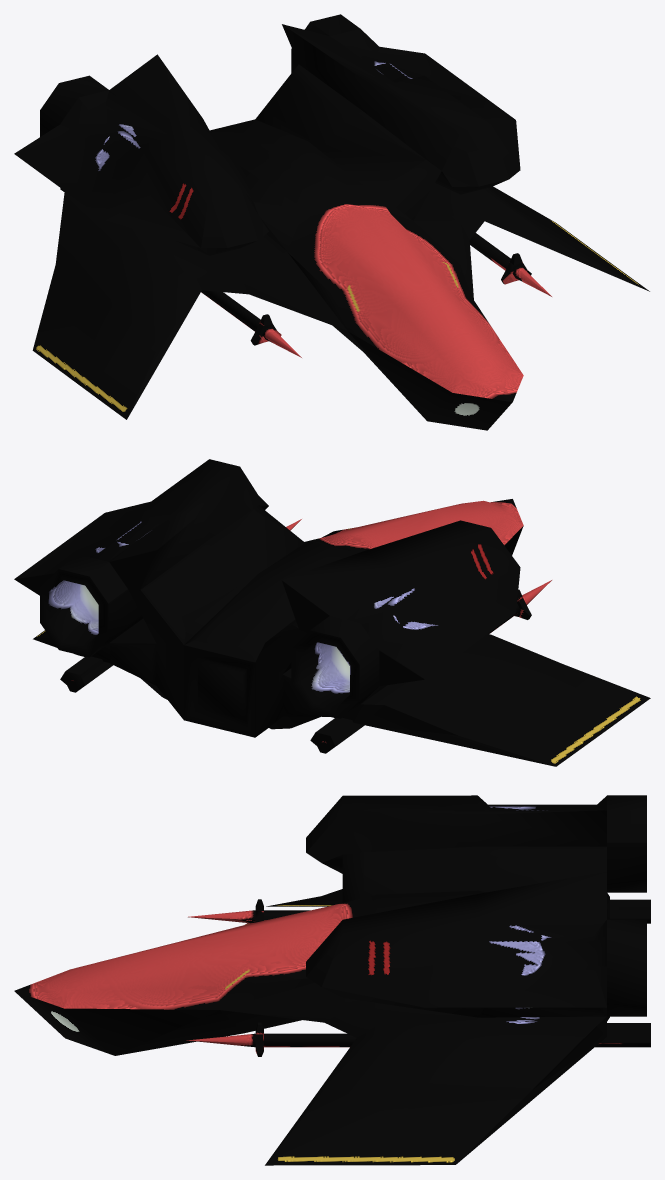
File: beta_ship.fbx
3 renders of one model, top to bottom at view 1: azimuth 30°, elevation 25°; view 2: azimuth 150°, elevation 25°; view 3: azimuth 270°, elevation 25°, orthographic.
Parts seen in each view (by area): view 1: Default; view 2: Default; view 3: Default.
Boxes of the visible parts, x1,y1,x2,y2 form: Default: (14, 14, 649, 430); Default: (14, 459, 650, 766); Default: (14, 795, 650, 1165).
Bounding box in the file's own units: 2.45 × 0.8732 × 2.55.
